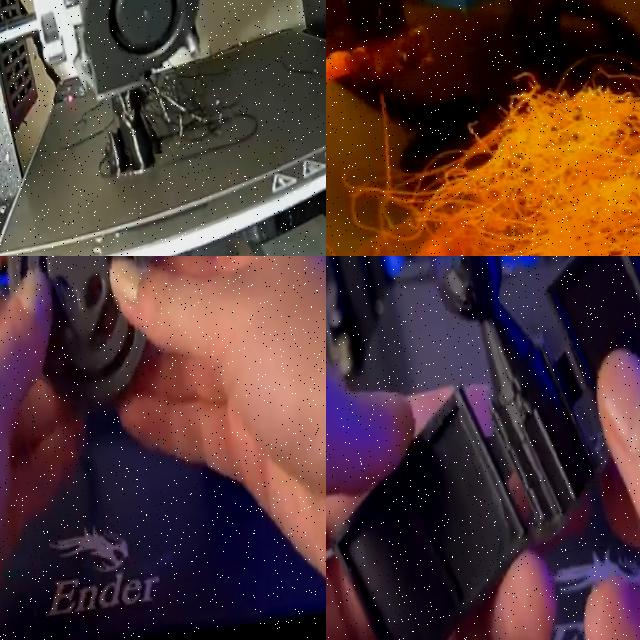spaghetti: (326, 36, 640, 256), (133, 51, 236, 156)
